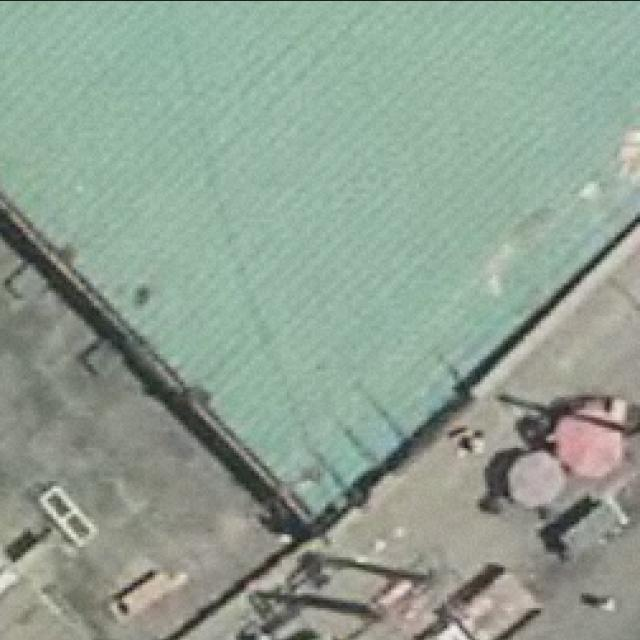vendedor_ambulante: (550, 400, 629, 480), (504, 446, 570, 512)
